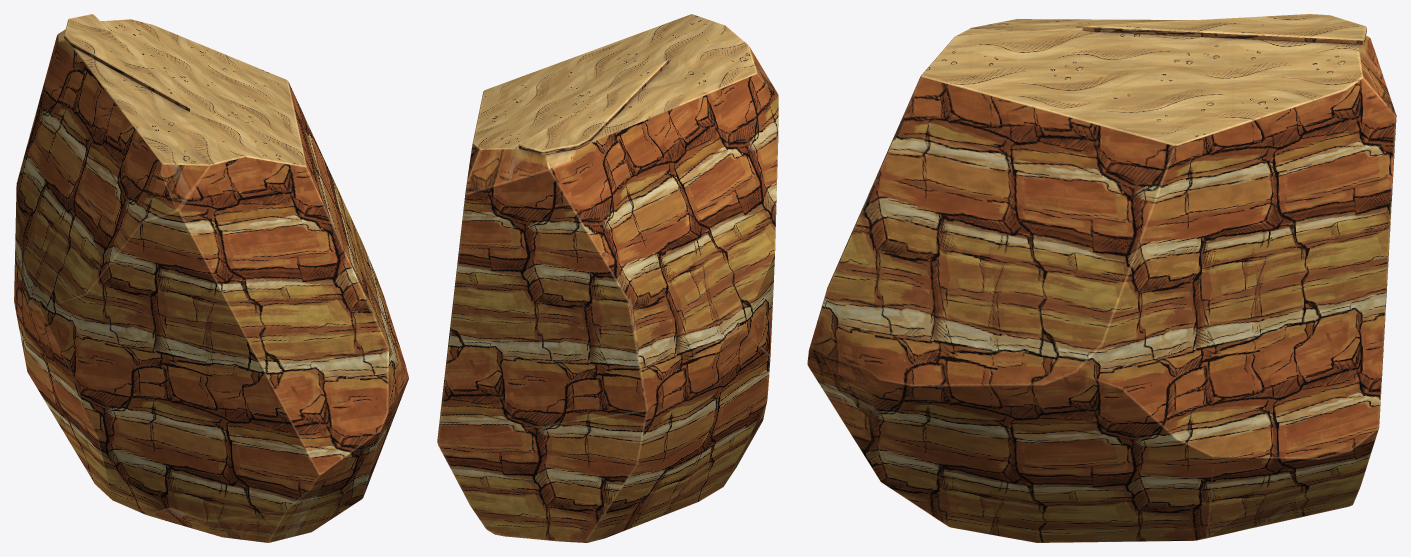
Rendered from v4_rocher_n1w.glb.
3 renders of one model, left to right at view 1: azimuth 30°, elevation 25°; view 2: azimuth 150°, elevation 25°; view 3: azimuth 270°, elevation 25°, orthographic. The views are drawn at different scales.
Parts seen in each view (by area): view 1: v4_rocher_n1w; view 2: v4_rocher_n1w; view 3: v4_rocher_n1w.
Part boxes in pixels (x1,y1,x2,y2): v4_rocher_n1w: (14,14,408,542); v4_rocher_n1w: (437,14,778,542); v4_rocher_n1w: (807,14,1396,542).
Size of the model in its own units: 3 by 3.8 by 4.49.
1 material, 1 textured.
